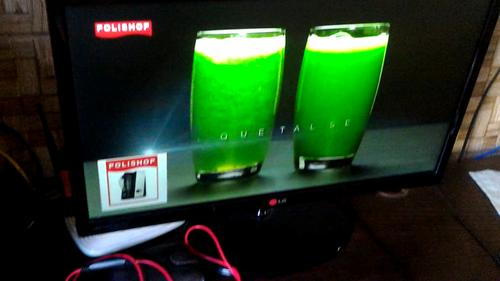Polishop #1: (97, 152, 168, 213)
